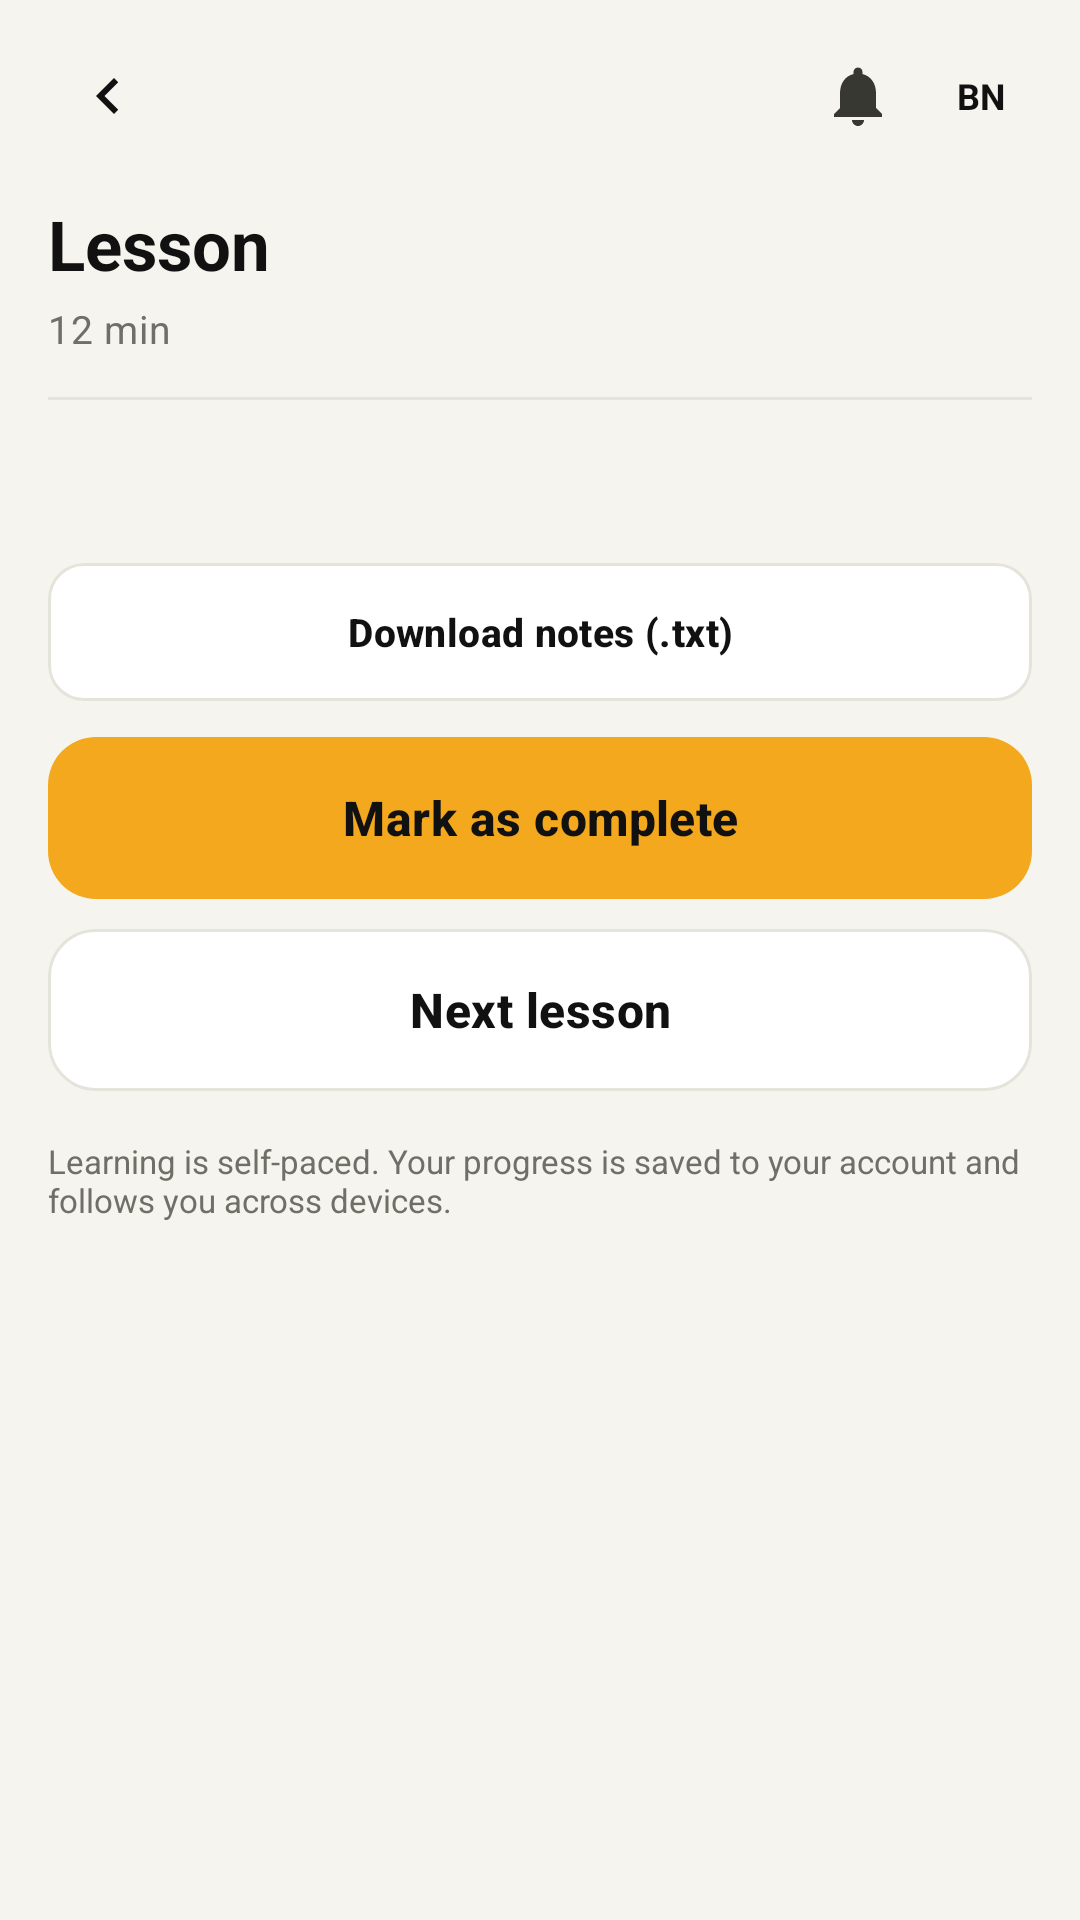

Locate icon controls on the screen. Image size 1080*1920, boxes as bbox=[x1, y1, x2, y2].
Back: bbox=[96, 78, 118, 114]
Notifications: bbox=[834, 67, 882, 126]
